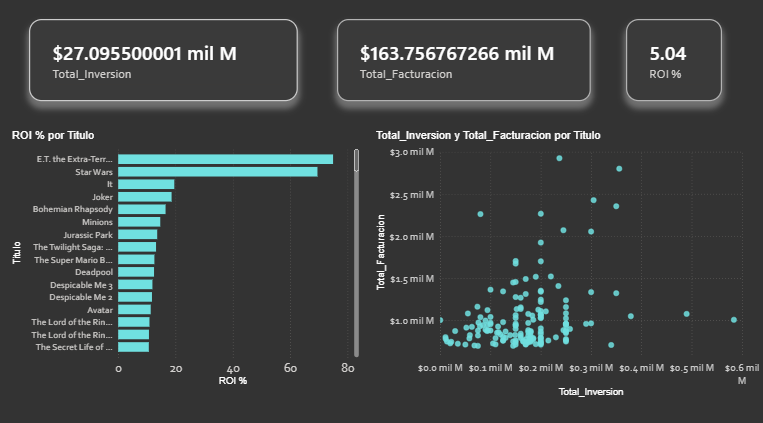

The page's visual inventory and layout, read from the dashboard file:
{"tool":"powerbi","page":{"name":"Página 1","canvas":[1280,720],"ordinal":0},"visuals":[{"type":"cardVisual","fields":{"Data":["Medidas .Total_Facturacion"]},"box":[565,35,423.3,136.7],"z":0},{"type":"cardVisual","fields":{"Data":["Medidas .ROI %"]},"box":[1046.7,35,160,136.7],"z":1000},{"type":"scatterChart","fields":{"X":["Medidas .Total_Inversion"],"Y":["Medidas .Total_Facturacion"],"Category":["Datos_peliculas_financiero.Titulo"]},"box":[625,218.3,655,451.7],"z":2000},{"type":"clusteredBarChart","fields":{"Y":["Medidas .ROI %"],"Category":["Datos_peliculas_financiero.Titulo"]},"box":[18.3,218.3,588.3,433.3],"z":3000},{"type":"cardVisual","fields":{"Data":["Medidas .Total_Inversion"]},"box":[51.7,35,448.3,136.7],"z":4000}]}

Visuals, with their boxes in screenshot pixels (x1, y1, x2, y2), scaled from the page's 1280x720 canvas onto the 763x423 screenshot:
cardVisual - Medidas .Total_Facturacion: <box>337,21,589,101</box>
cardVisual - Medidas .ROI %: <box>624,21,719,101</box>
scatterChart - Medidas .Total_Inversion x Medidas .Total_Facturacion: <box>373,128,762,394</box>
clusteredBarChart - Medidas .ROI % x Datos_peliculas_financiero.Titulo: <box>11,128,362,383</box>
cardVisual - Medidas .Total_Inversion: <box>31,21,298,101</box>
